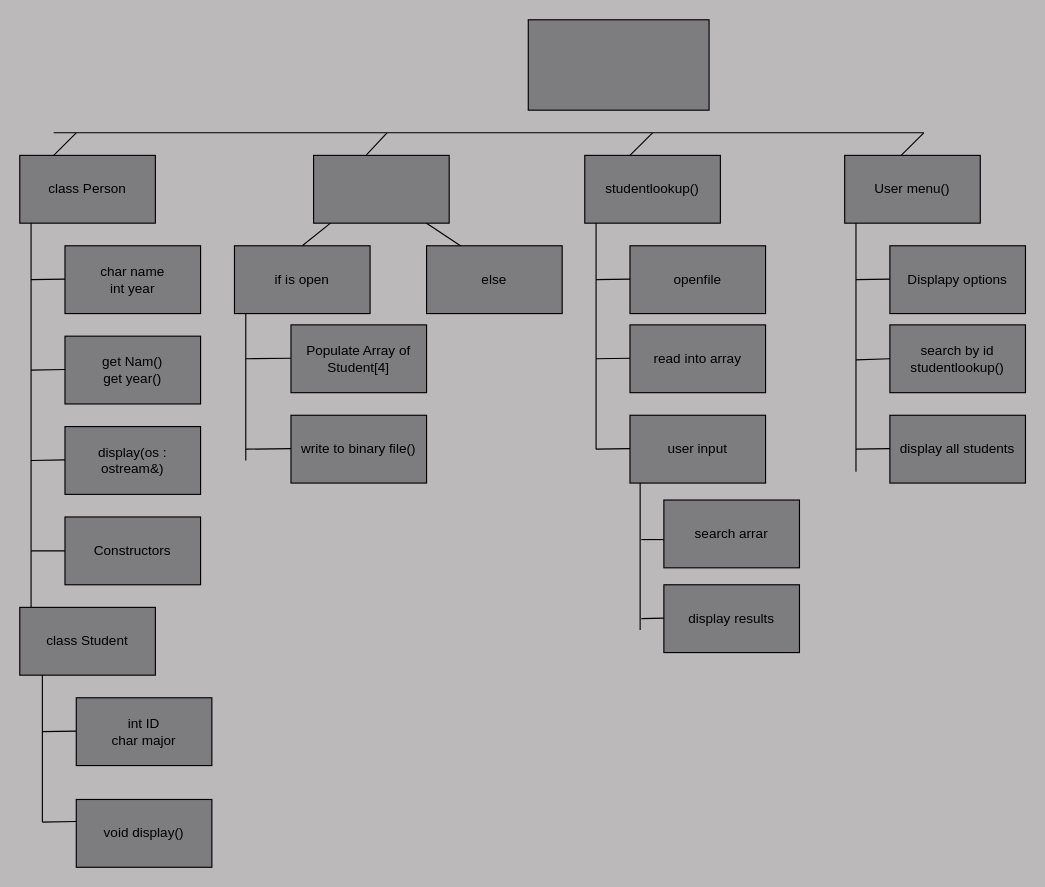
Some shapes in this 1045 by 887 pixel diagram are drawn without their labels. The centre of each missing label's shape, as x and y in pixels:
Student Access Database: (618,64)
tofile(): (380,188)
